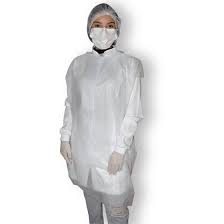with_mask_and_cap: (84, 4, 121, 50)
